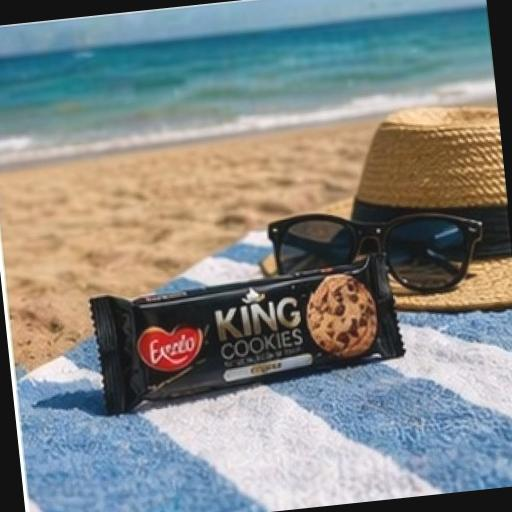king_cooking: (48, 192, 458, 446)
